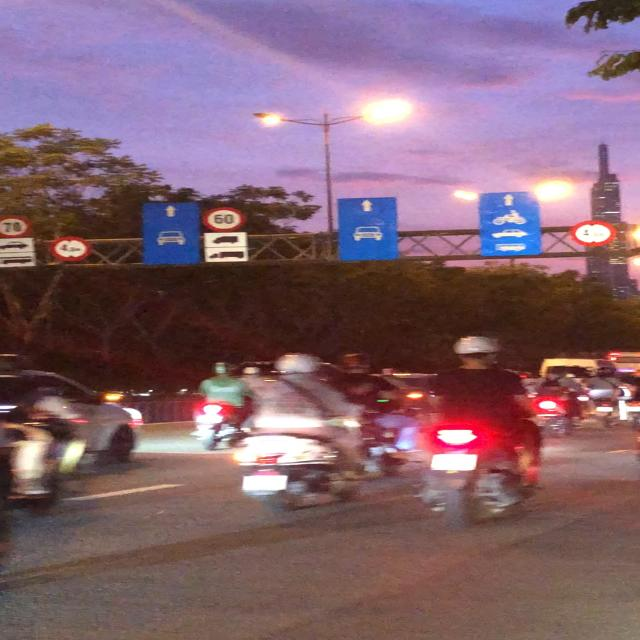Bien bao han che chieu cao: (49, 234, 97, 264)
Bien bao toc do toi da cho phep: (200, 204, 255, 233), (0, 206, 35, 241)
